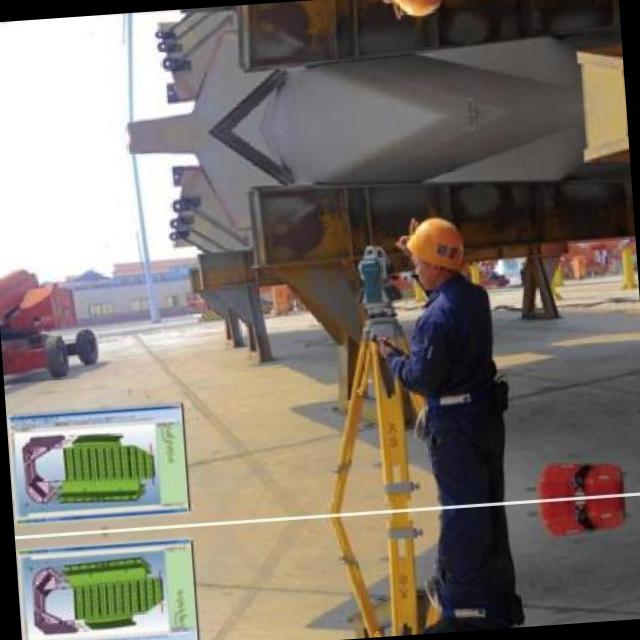helmet: (399, 209, 472, 289), (384, 0, 455, 22)
